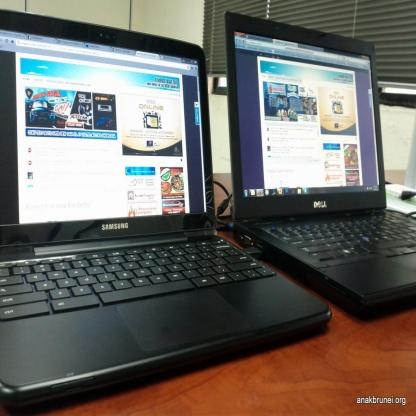board: (0, 21, 299, 408), (225, 12, 416, 320)
